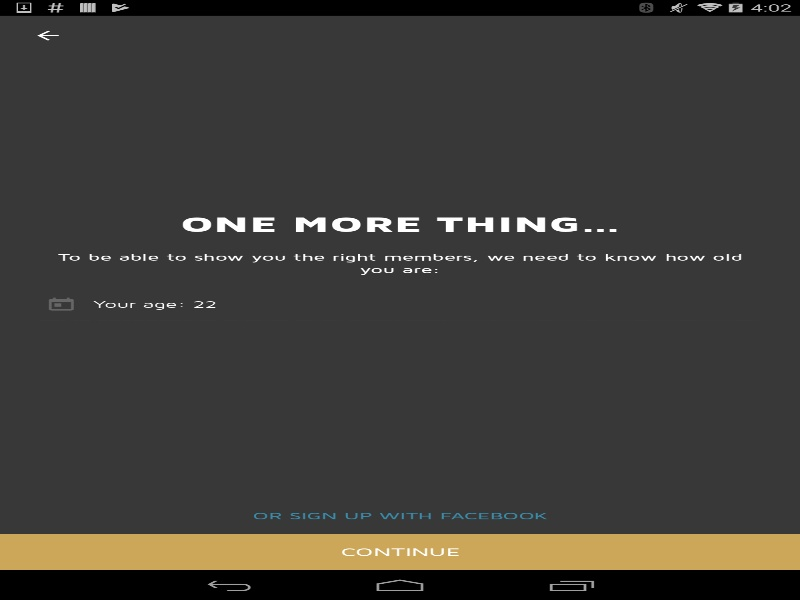Button: (0, 533, 800, 570), (0, 497, 800, 533), (10, 15, 85, 55)
Input: (40, 287, 760, 320)
